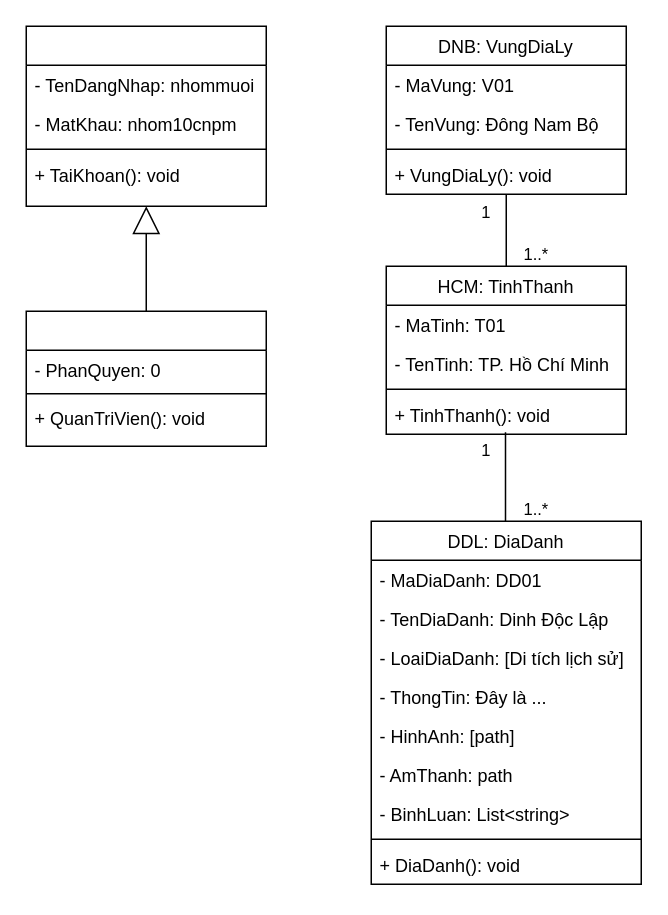
This 668x915 diagram has some shape labels left out. The box of each missing label's shape, as (x1, y1, x2, y2) in pixels:
Minh: NguoiDung: (25, 25, 266, 206)
tenth: QuanTriVien: (25, 310, 266, 446)
